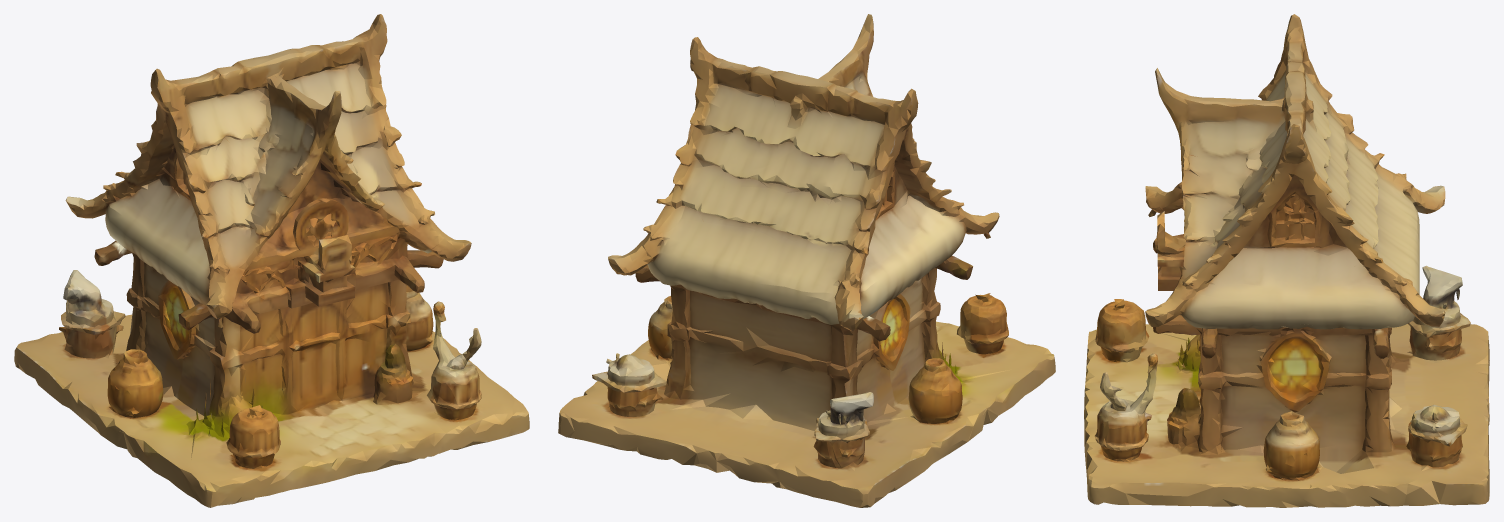
File: orc_library.glb
3 renders of one model, left to right at view 1: azimuth 30°, elevation 25°; view 2: azimuth 150°, elevation 25°; view 3: azimuth 270°, elevation 25°, orthographic. The views are drawn at different scales.
Visible parts, largest first — view 1: orc_library; view 2: orc_library; view 3: orc_library.
Part boxes in pixels (bbox=[...]): orc_library: bbox=[14, 14, 529, 507]; orc_library: bbox=[558, 14, 1055, 507]; orc_library: bbox=[1084, 14, 1489, 507].
Bounding box in the file's own units: 1.51 × 1.52 × 1.56.
1 material, 1 textured.
